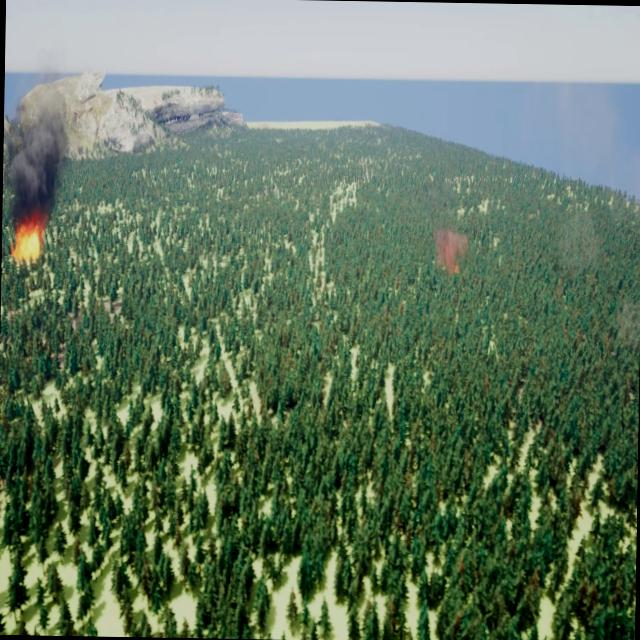fire: (10, 220, 44, 265)
smoke: (2, 91, 67, 216), (430, 222, 468, 274)
